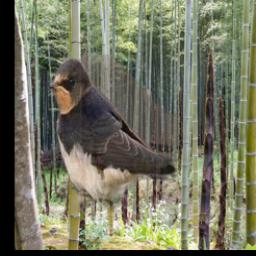Swallow: (49, 56, 177, 213)
